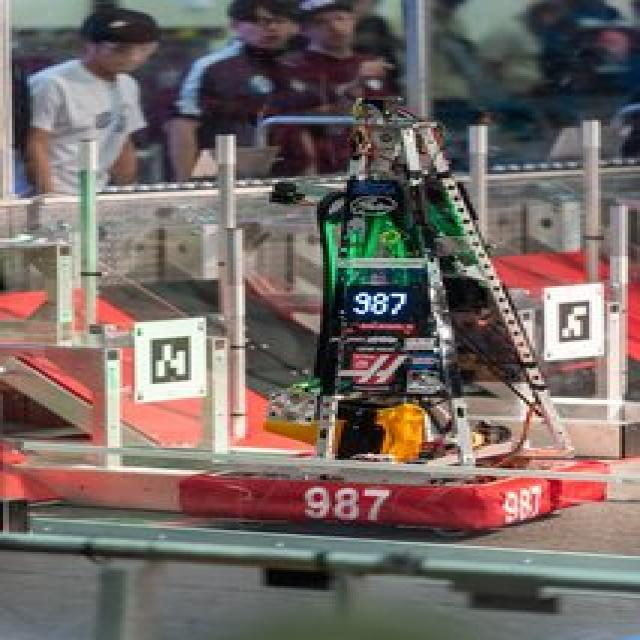robot: (152, 94, 610, 545)
